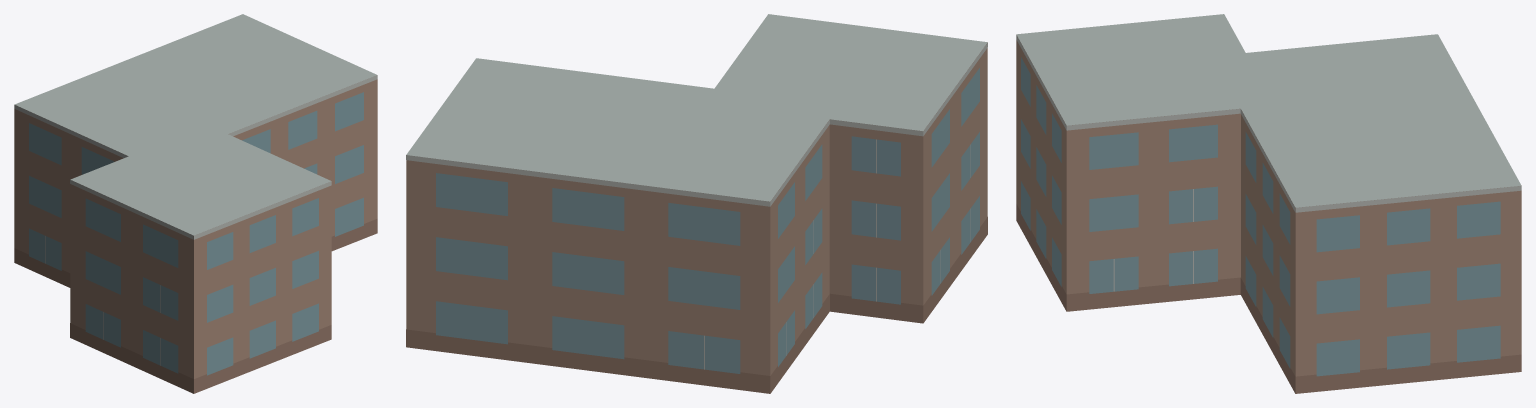
Rendered from survey-upis-32704826.glb.
3 renders of one model, left to right at view 1: azimuth 30°, elevation 25°; view 2: azimuth 150°, elevation 25°; view 3: azimuth 270°, elevation 25°, orthographic. The views are drawn at different scales.
Visible parts, largest first — view 1: survey-upis-32704826.tmp; view 2: survey-upis-32704826.tmp; view 3: survey-upis-32704826.tmp.
Part boxes in pixels (box(x1,y1,x2,y2)): survey-upis-32704826.tmp: box(14, 14, 377, 393); survey-upis-32704826.tmp: box(406, 14, 987, 393); survey-upis-32704826.tmp: box(1016, 14, 1521, 393).
Size of the model in its own units: 20.44 by 9.15 by 22.53.
